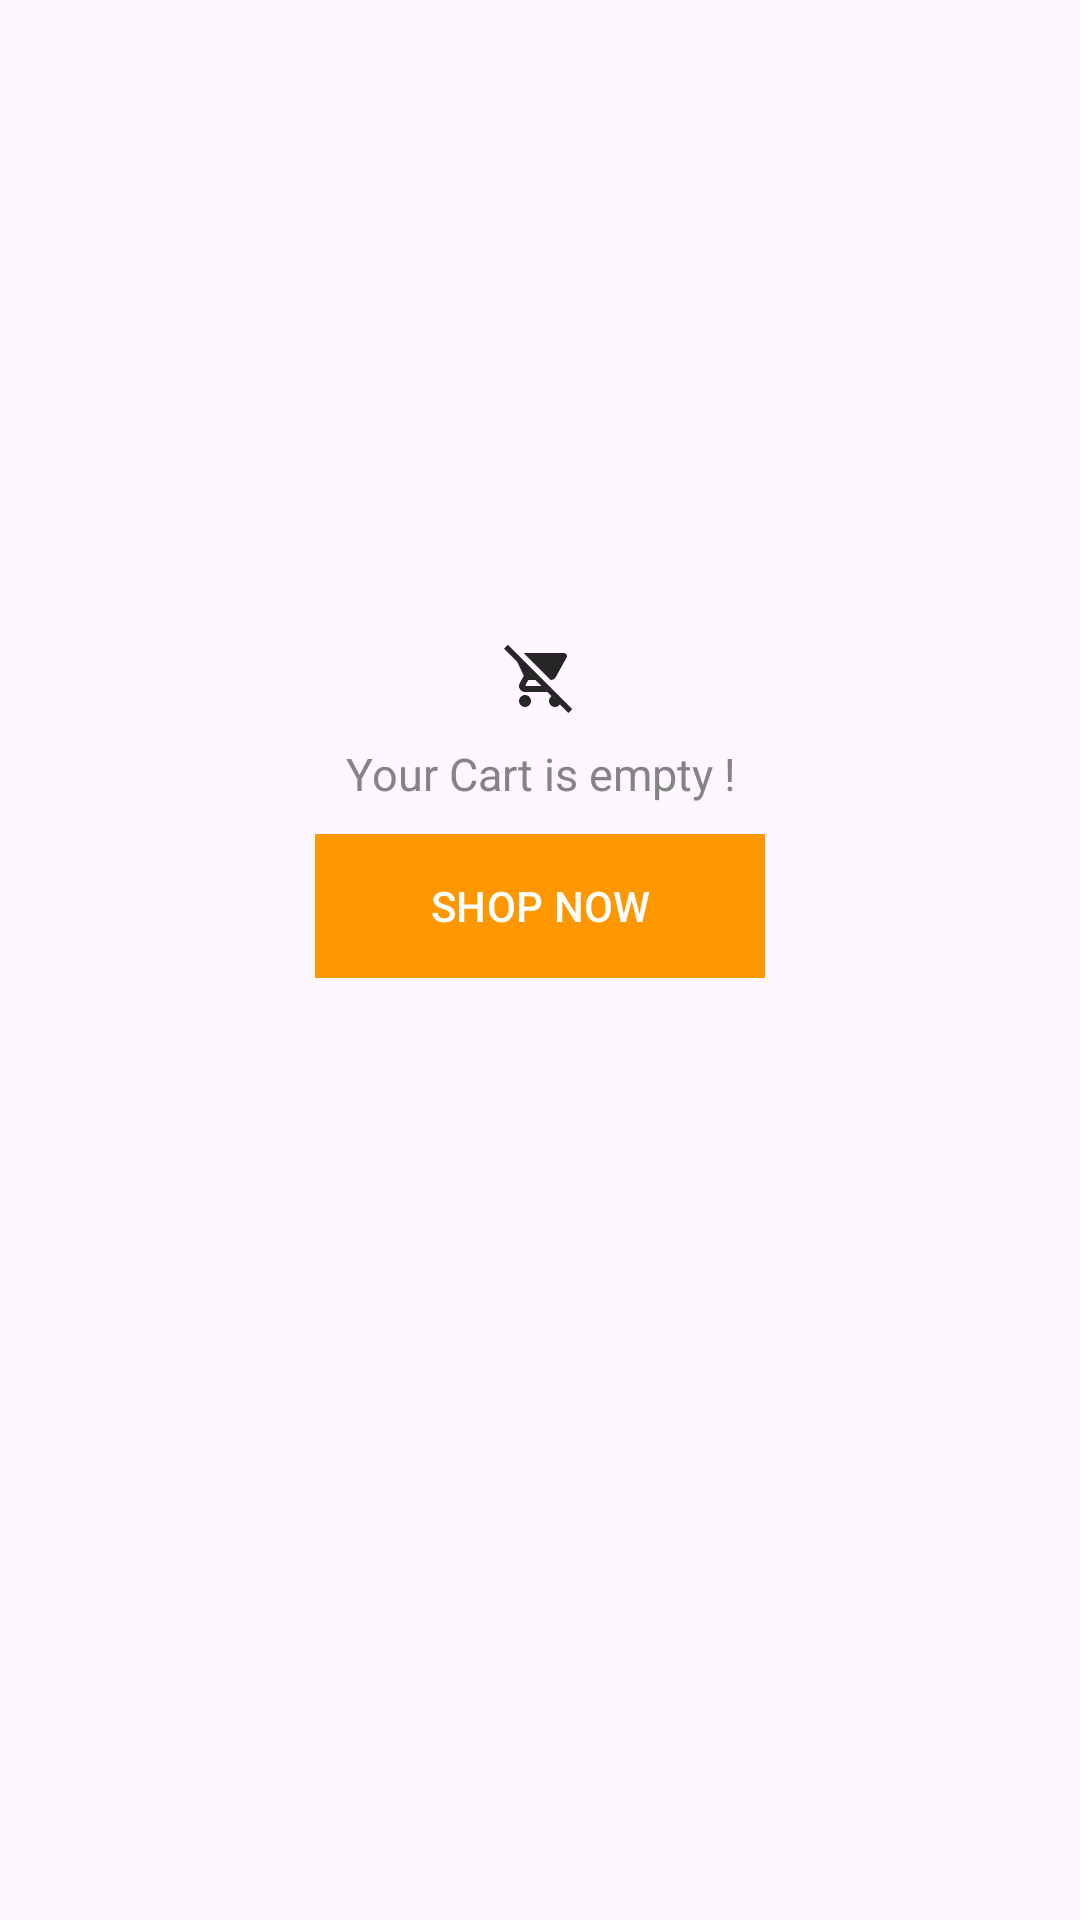

Point at icon controls on the screen. Image size 1080px x 1920px, points as point (x, y).
remove shopping cart: point (538, 679)
